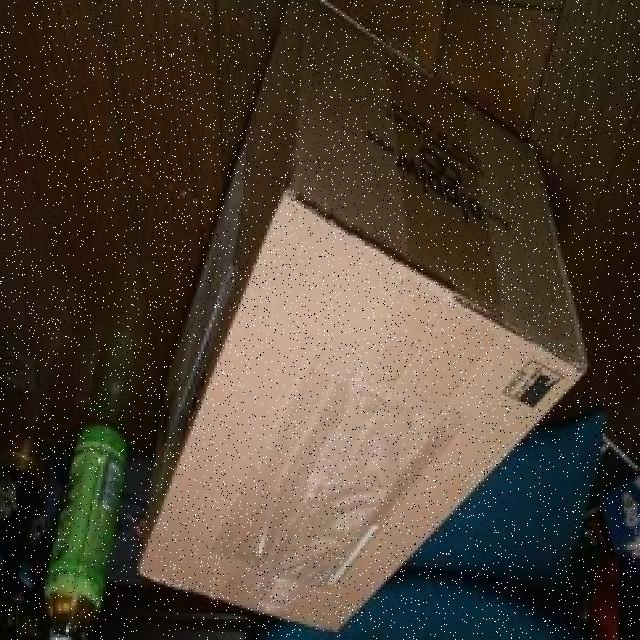box: (85, 0, 611, 624)
